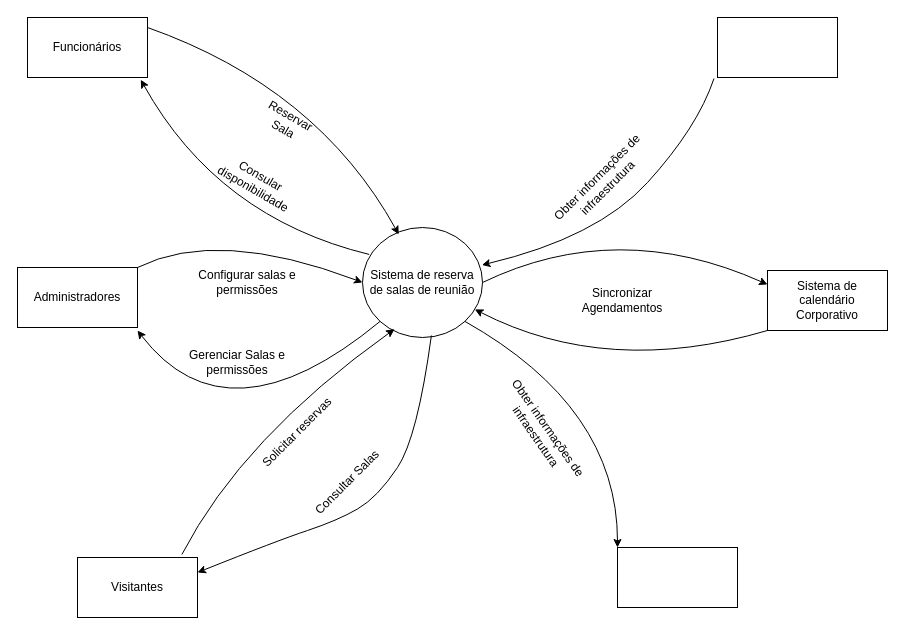
Image size: 905x635. Some labels were removed from this diagram. The shapes that lost their labels are listed below. From the top down, each one's centre as x and y in pixels, then its label:
At point 777,47: "Sistema de Autenticação".
At point 677,577: "Sistema de Gestão Predial".
